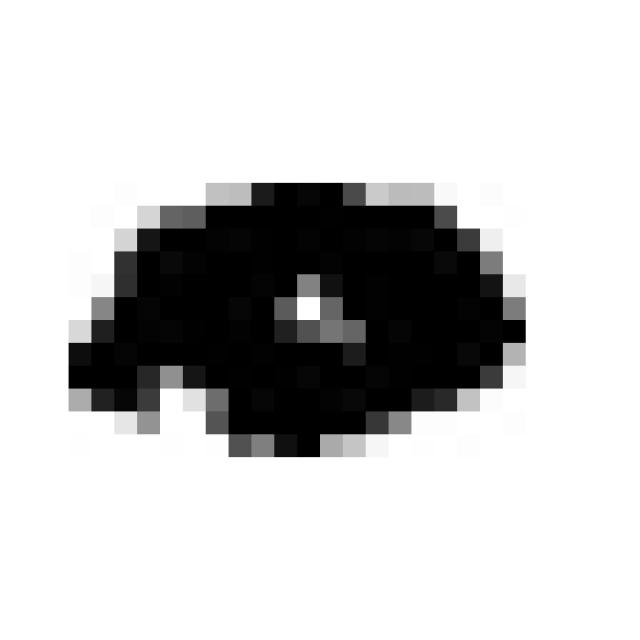0 -zero-: (62, 147, 535, 493)
